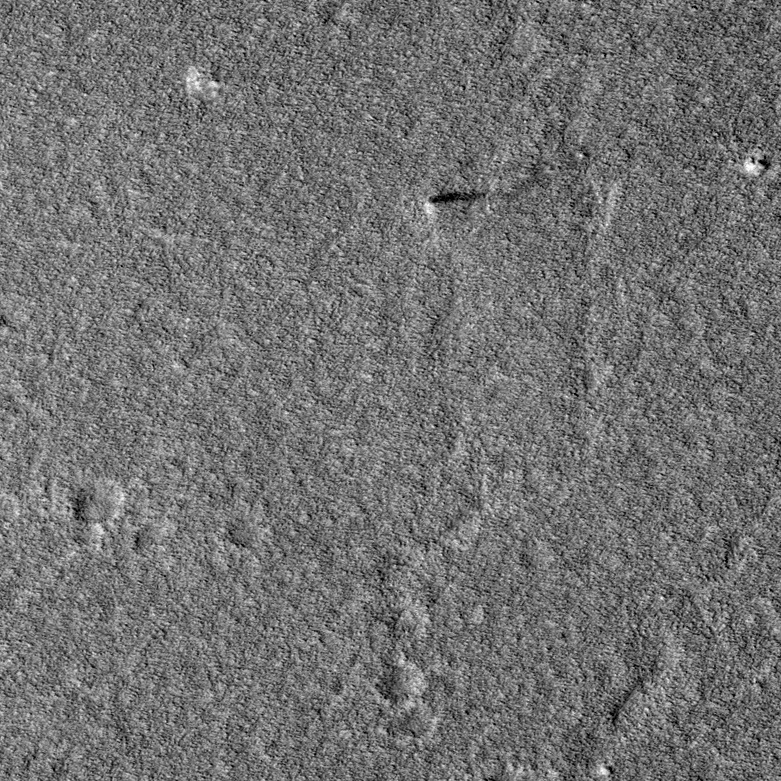dust_devil: (422, 188, 487, 215)
